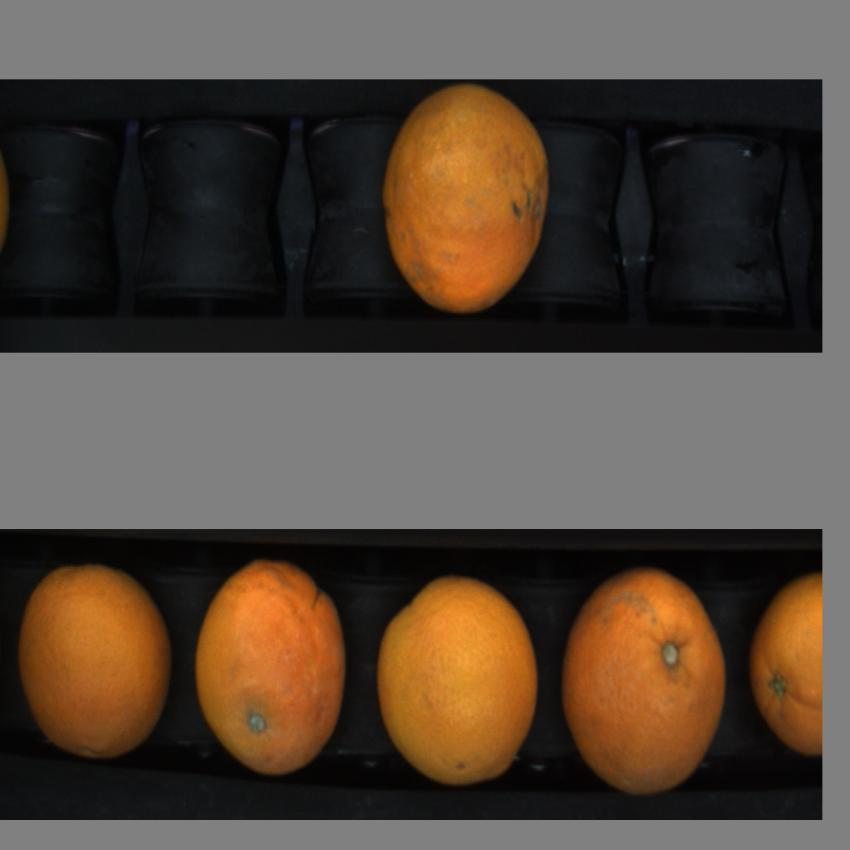Buen estado: (372, 76, 557, 321), (373, 560, 542, 798), (558, 562, 730, 794), (16, 557, 174, 772), (744, 567, 822, 772)
Mal estado: (190, 558, 351, 782)
